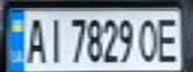2: (103, 15, 121, 64)
7: (66, 13, 87, 64)
8: (84, 15, 106, 64)
9: (118, 15, 139, 64)
A: (21, 13, 48, 64)
E: (154, 13, 184, 64)
I: (42, 13, 66, 64)
O: (136, 15, 160, 63)
